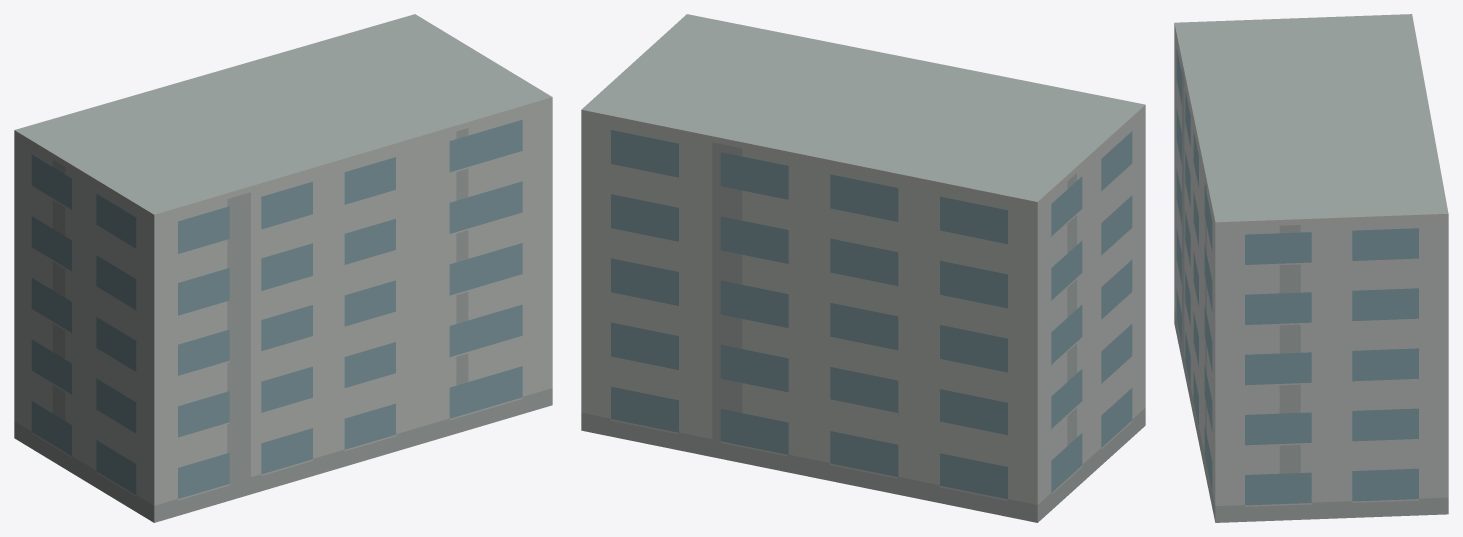
The model's file is survey-upis-32957935.glb.
The picture shows the model from 3 angles, left to right: view 1: azimuth 30°, elevation 25°; view 2: azimuth 150°, elevation 25°; view 3: azimuth 270°, elevation 25°; orthographic projection. The views are drawn at different scales.
Visible parts, largest first — view 1: survey-upis-32957935.tmp; view 2: survey-upis-32957935.tmp; view 3: survey-upis-32957935.tmp.
Part boxes in pixels (bbox=[...]): survey-upis-32957935.tmp: bbox=[14, 14, 552, 522]; survey-upis-32957935.tmp: bbox=[581, 14, 1145, 522]; survey-upis-32957935.tmp: bbox=[1174, 14, 1448, 522].
Size of the model in its own units: 18.92 by 12.72 by 10.53.
